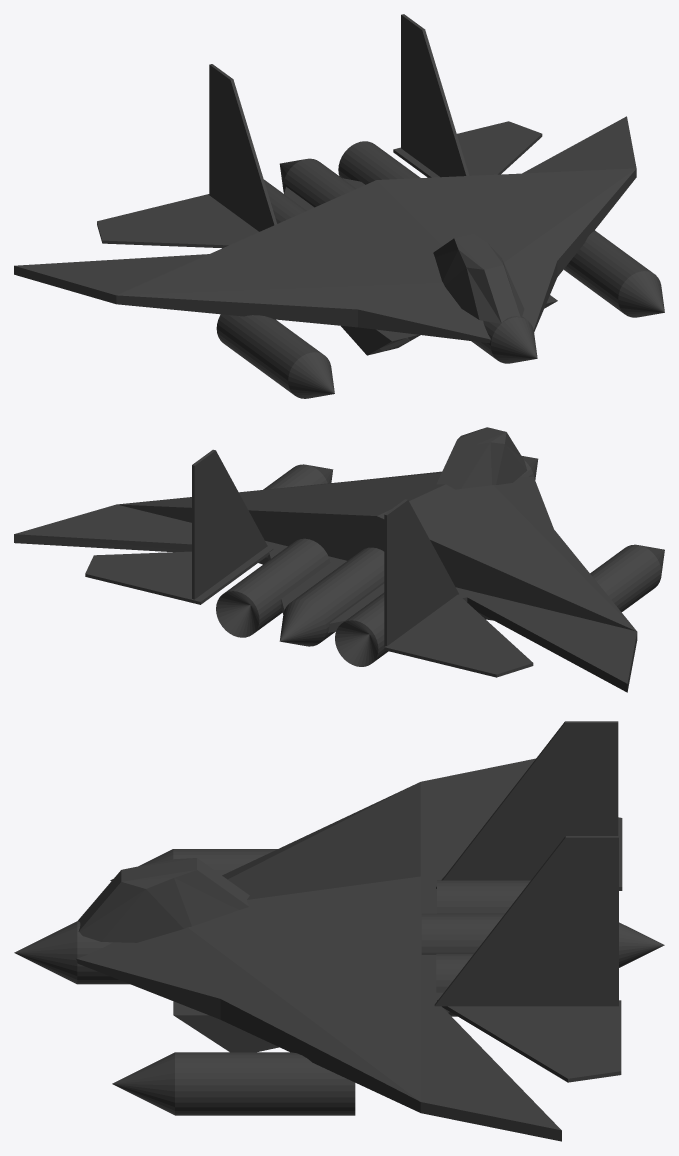
The model's file is fighter2.obj.
3 views of the same model, one above another, from view 1: azimuth 30°, elevation 25°; view 2: azimuth 150°, elevation 25°; view 3: azimuth 270°, elevation 25° (orthographic). The views are drawn at different scales.
Parts seen in each view (by area): view 1: fighter; view 2: fighter; view 3: fighter.
Boxes of the visible parts, <box> form: fighter: <box>14,14,664,398</box>; fighter: <box>14,427,664,692</box>; fighter: <box>14,721,664,1141</box>.
Size of the model in its own units: 1.28 by 0.3756 by 0.9306.
1 material, 1 textured.
